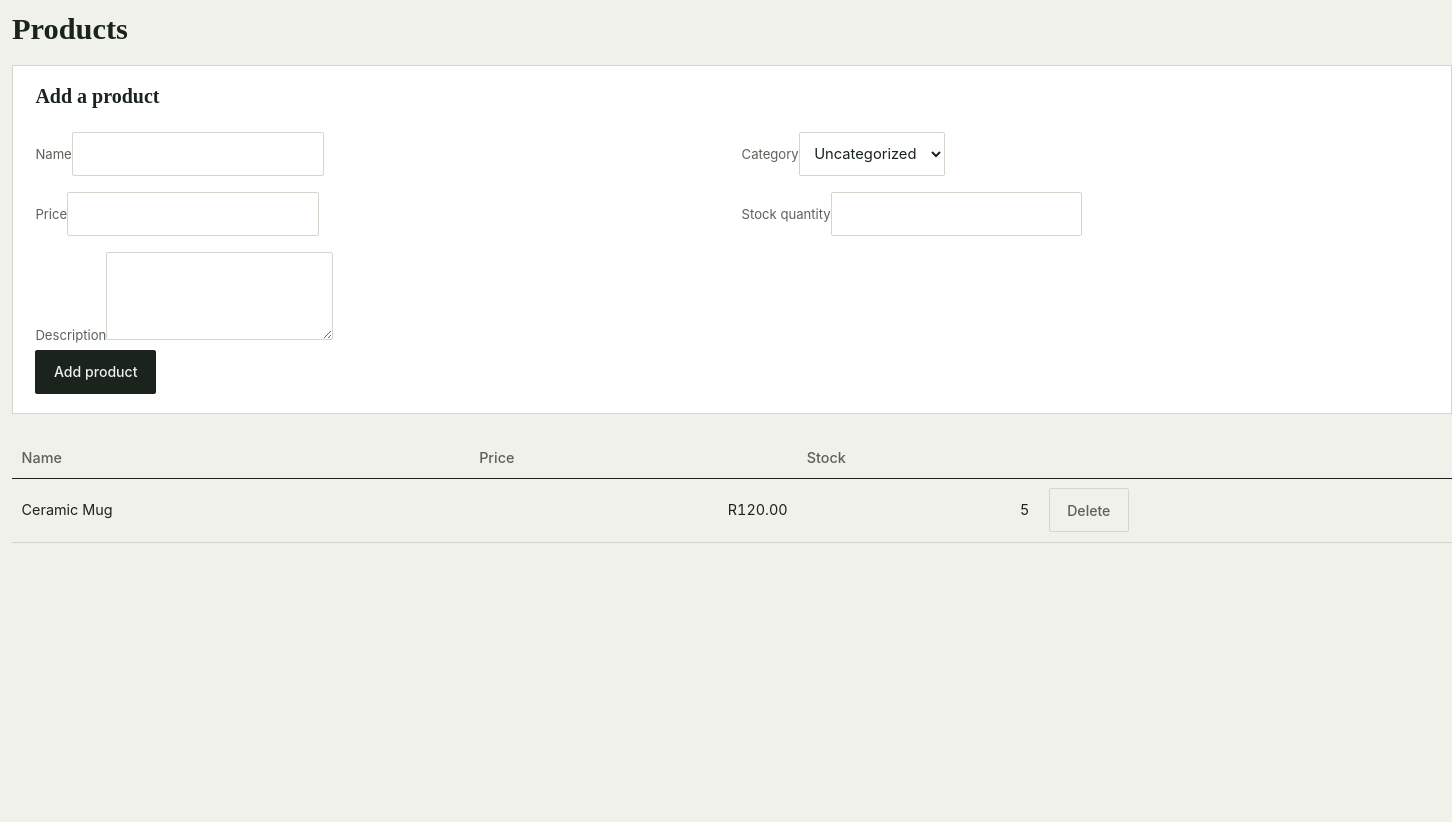
Scenario: AdminProductsPage creating a product › confirms the creation and refreshes the product list
The width and height of the screenshot is (1452, 822).
Check: the text "Ceramic Mug" is shown, box left=12, top=478, right=470, bottom=542
Type "Enamel Bowl" into the field labelled "Name". click: x=198, y=154
box: left=72, top=132, right=324, bottom=176
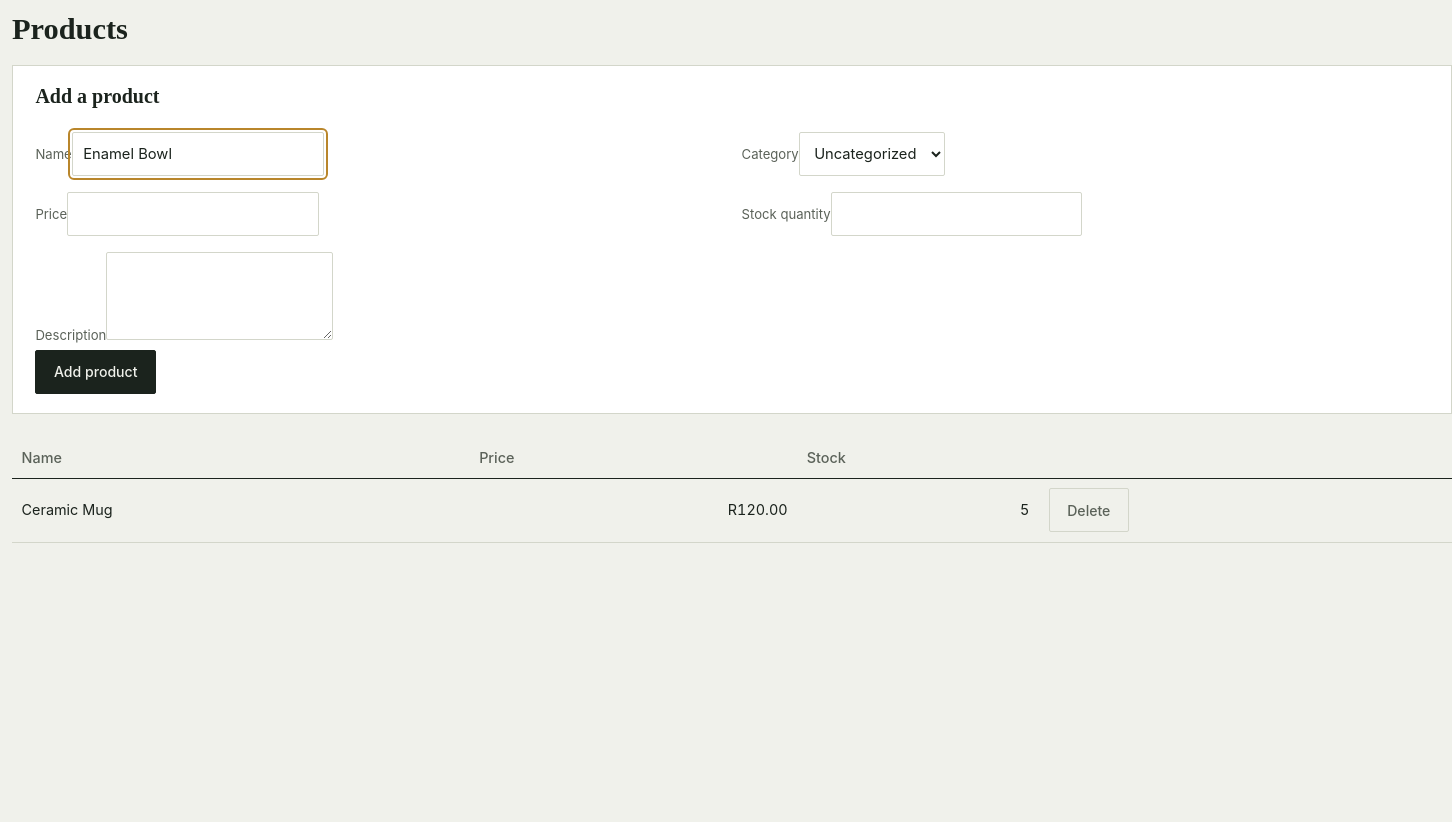
Type "95" into the number field labelled "Price". click: x=193, y=214
box: left=67, top=192, right=319, bottom=236
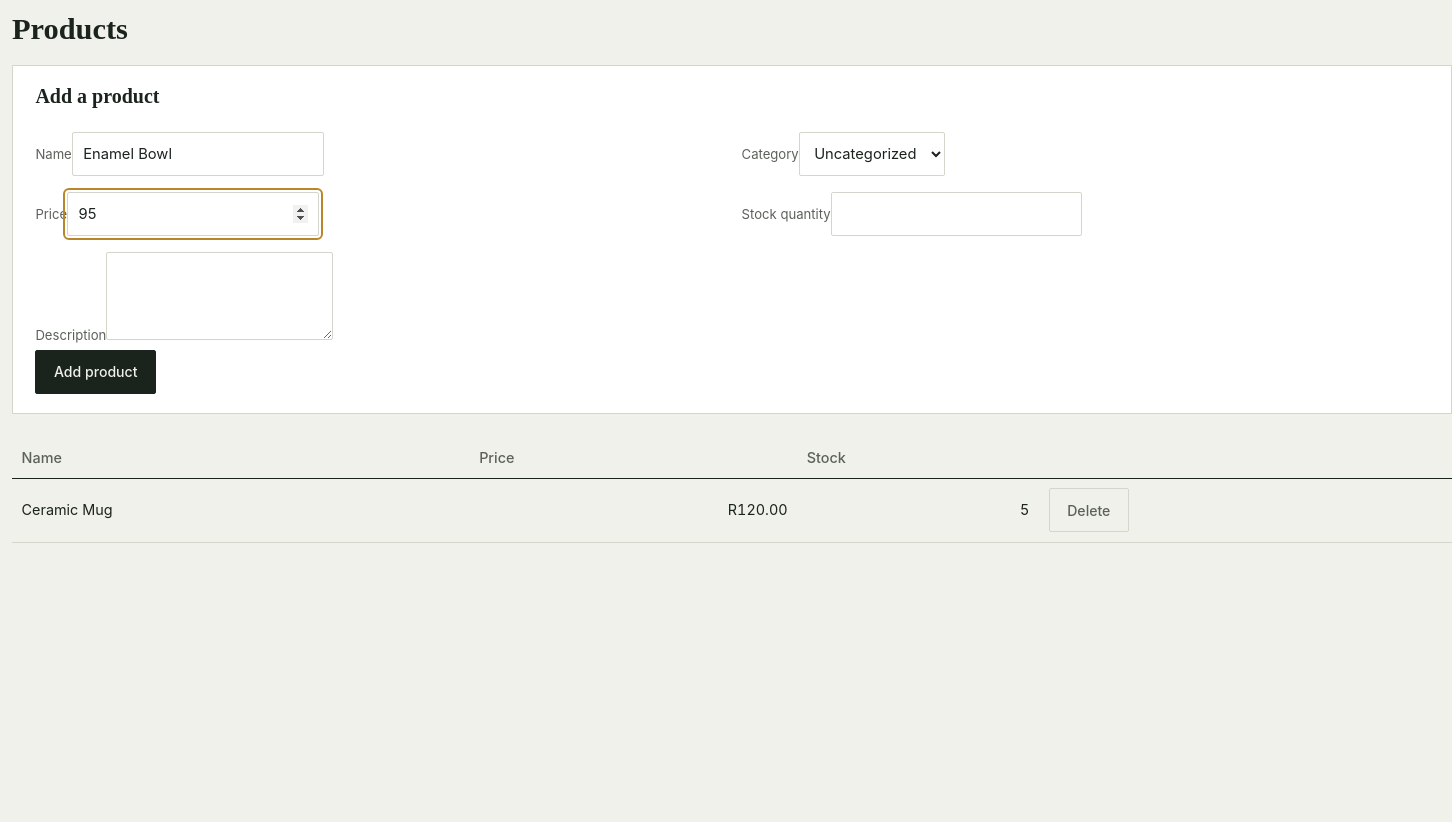
Type "12" into the number field labelled "Stock quantity". click: x=957, y=214
box: left=831, top=192, right=1082, bottom=236
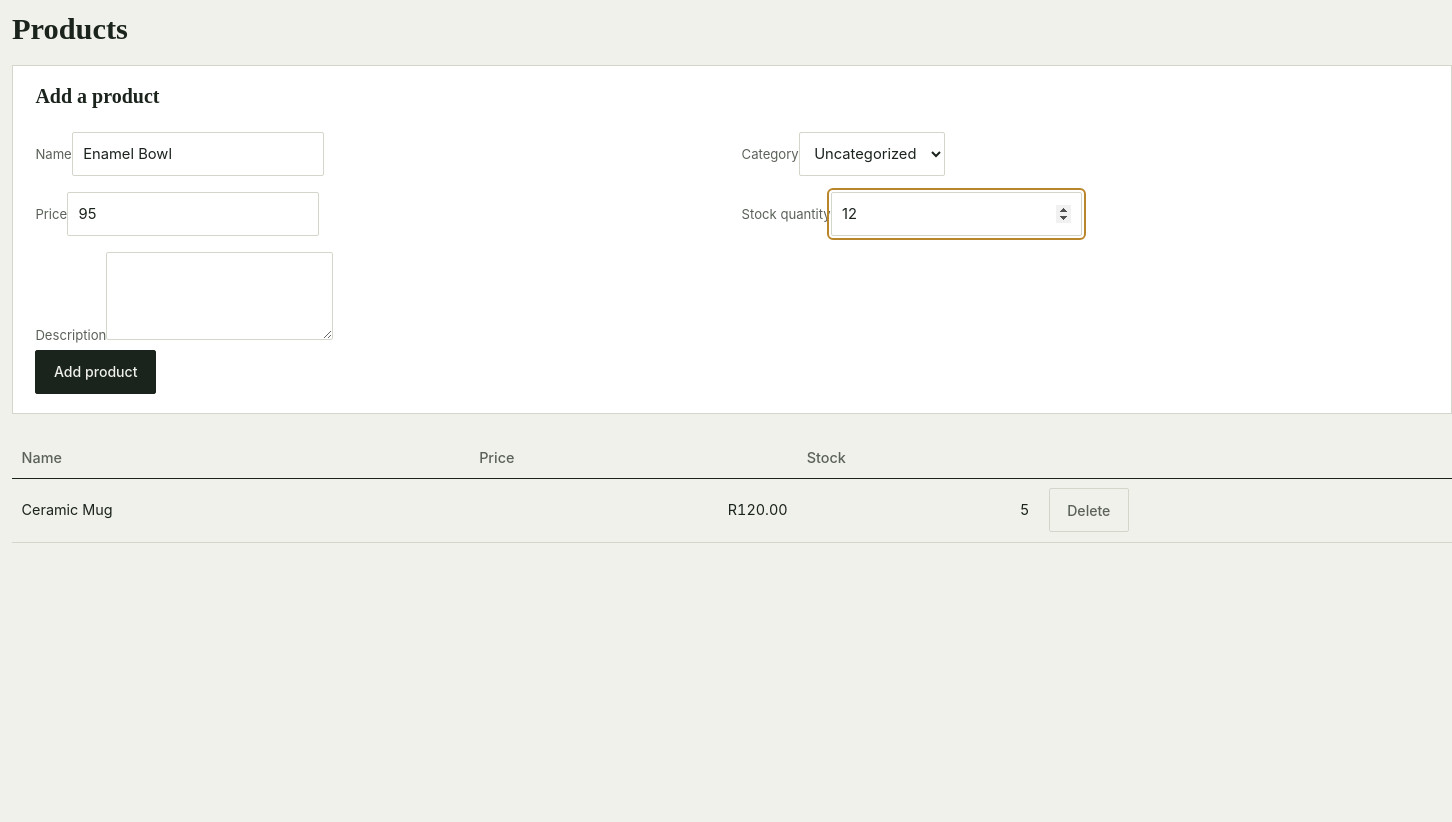
Click the button "Add product". click: x=96, y=372
box: left=35, top=350, right=156, bottom=394
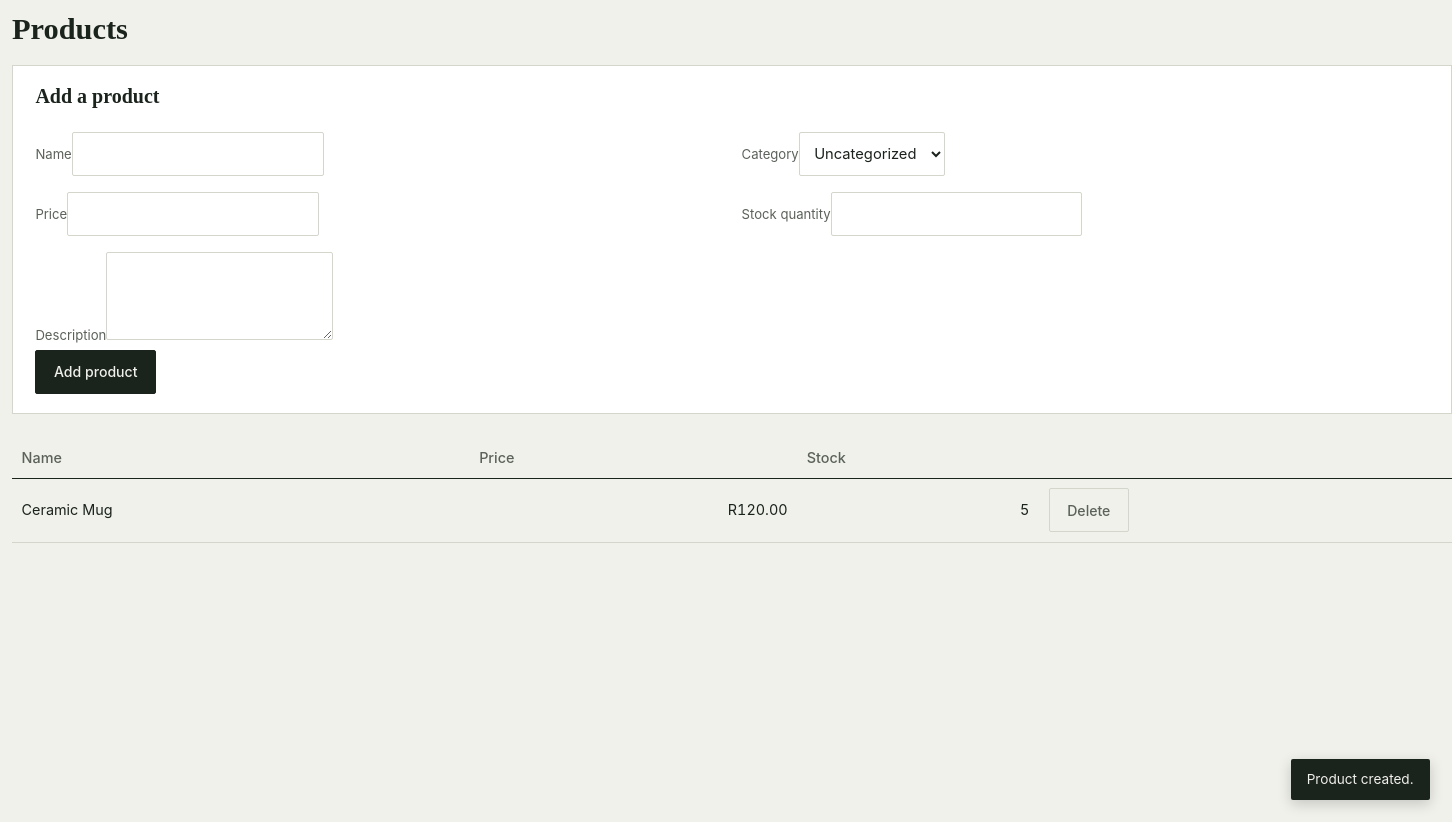
Check: the text "Product created." is shown, box left=1291, top=759, right=1430, bottom=800
